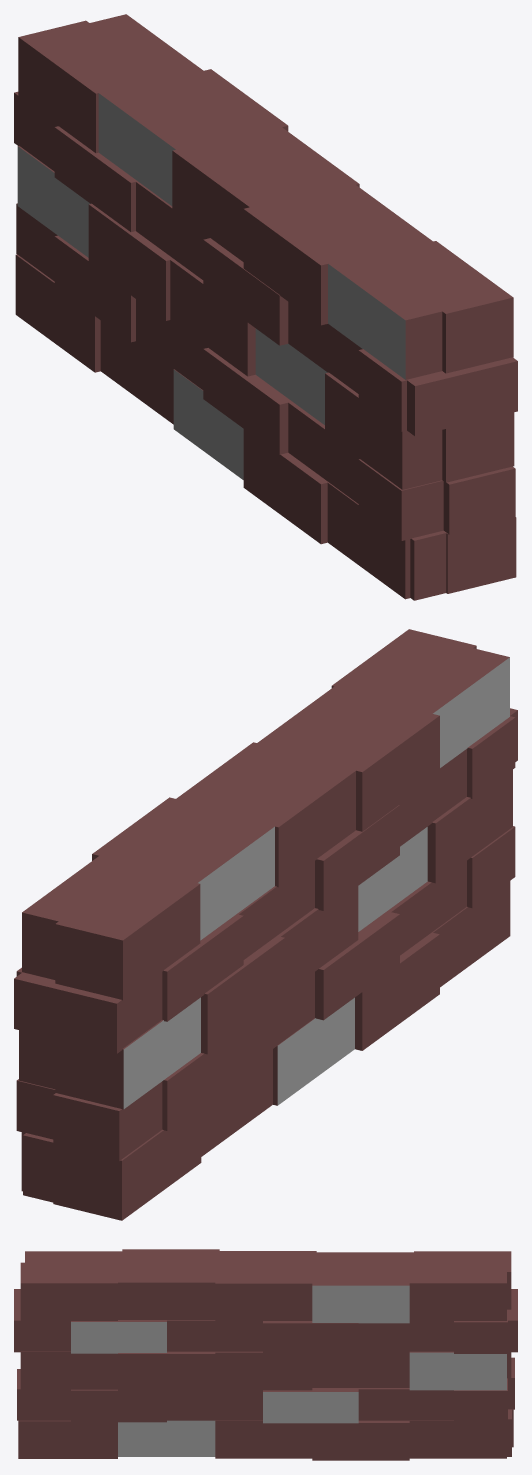
Rendered from wall.fbx.
3 renders of one model, top to bottom at view 1: azimuth 30°, elevation 25°; view 2: azimuth 150°, elevation 25°; view 3: azimuth 270°, elevation 25°, orthographic. The views are drawn at different scales.
Parts seen in each view (by area): view 1: pCube22; view 2: pCube22; view 3: pCube22.
Boxes of the visible parts, <box> form: pCube22: <box>14,14,517,600</box>; pCube22: <box>14,629,517,1220</box>; pCube22: <box>14,1249,517,1460</box>.
Bounding box in the file's own units: 0.9098 × 2.01 × 5.25.
